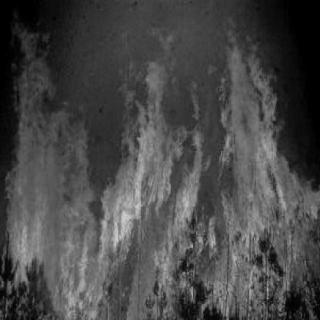Fire: (9, 13, 313, 317)
